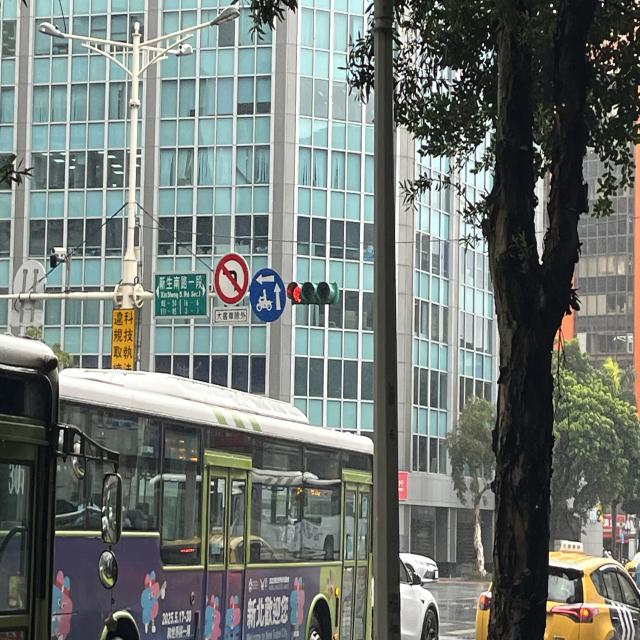red light: (286, 280, 340, 306)
